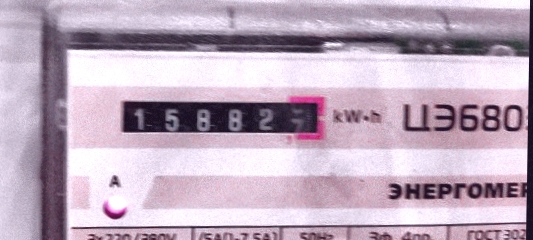1: (132, 105, 146, 131)
2: (258, 105, 274, 131)
5: (163, 106, 179, 131)
7: (289, 115, 303, 131)
8: (194, 106, 211, 131), (226, 105, 242, 130)
screen: (107, 85, 334, 149)
